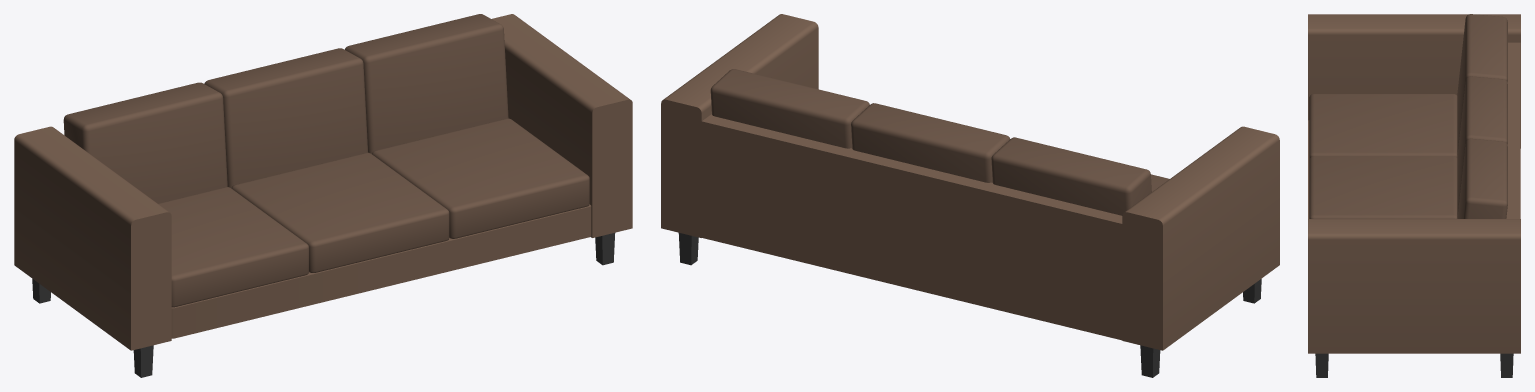
Rendered from Sofa6_C3.fbx.
The picture shows the model from 3 angles, left to right: view 1: azimuth 30°, elevation 25°; view 2: azimuth 150°, elevation 25°; view 3: azimuth 270°, elevation 25°; orthographic projection. The views are drawn at different scales.
Visible parts, largest first — view 1: Sofa6_C3; view 2: Sofa6_C3; view 3: Sofa6_C3.
Part boxes in pixels (bbox=[...]): Sofa6_C3: bbox=[14, 14, 632, 377]; Sofa6_C3: bbox=[661, 14, 1279, 377]; Sofa6_C3: bbox=[1308, 14, 1520, 377].
Size of the model in its own units: 248 by 86.76 by 100.
